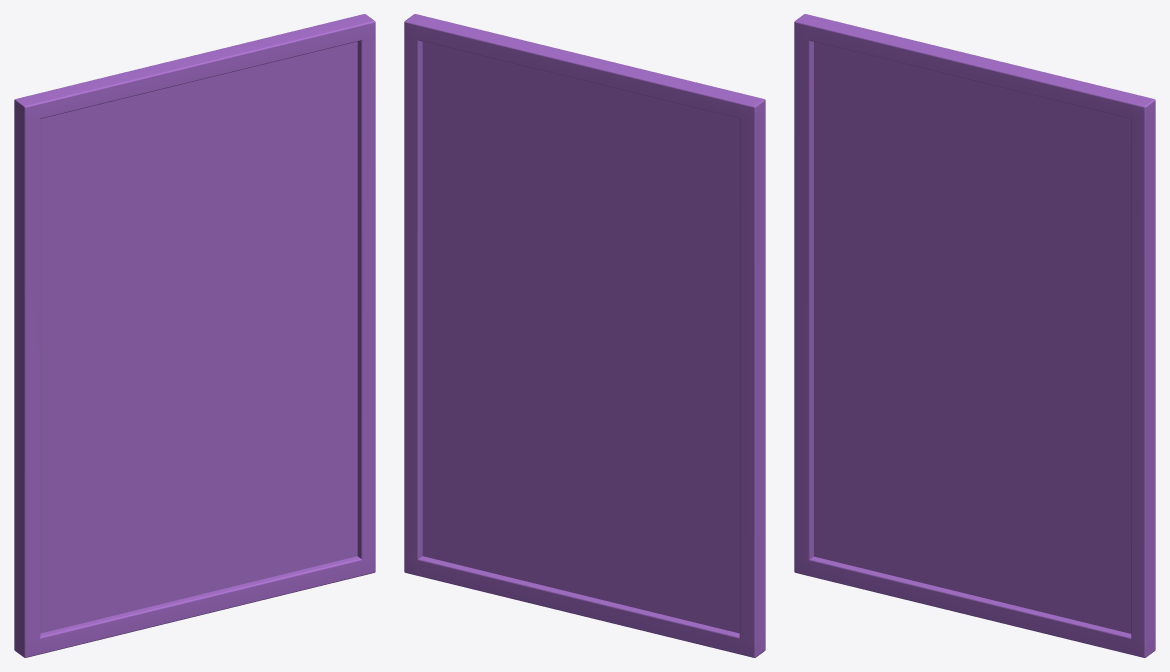
Rendered from cuadro01B.fbx.
The picture shows the model from 3 angles, left to right: view 1: azimuth 30°, elevation 25°; view 2: azimuth 150°, elevation 25°; view 3: azimuth 330°, elevation 25°; orthographic projection.
Visible parts, largest first — view 1: cuadro06; view 2: cuadro06; view 3: cuadro06.
Part boxes in pixels (<box>): cuadro06: <box>14,14,375,657</box>; cuadro06: <box>404,14,765,657</box>; cuadro06: <box>794,14,1155,657</box>.
Bounding box in the file's own units: 0.7184 × 1.08 × 0.0389.
